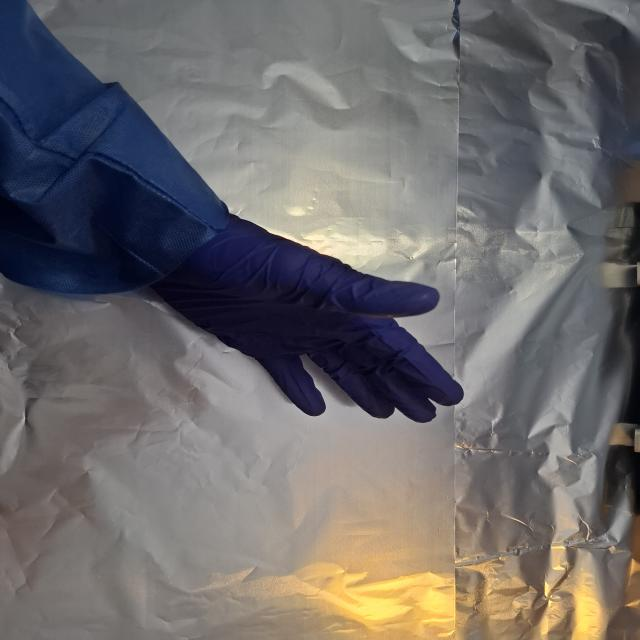glove_on: (147, 211, 465, 425)
